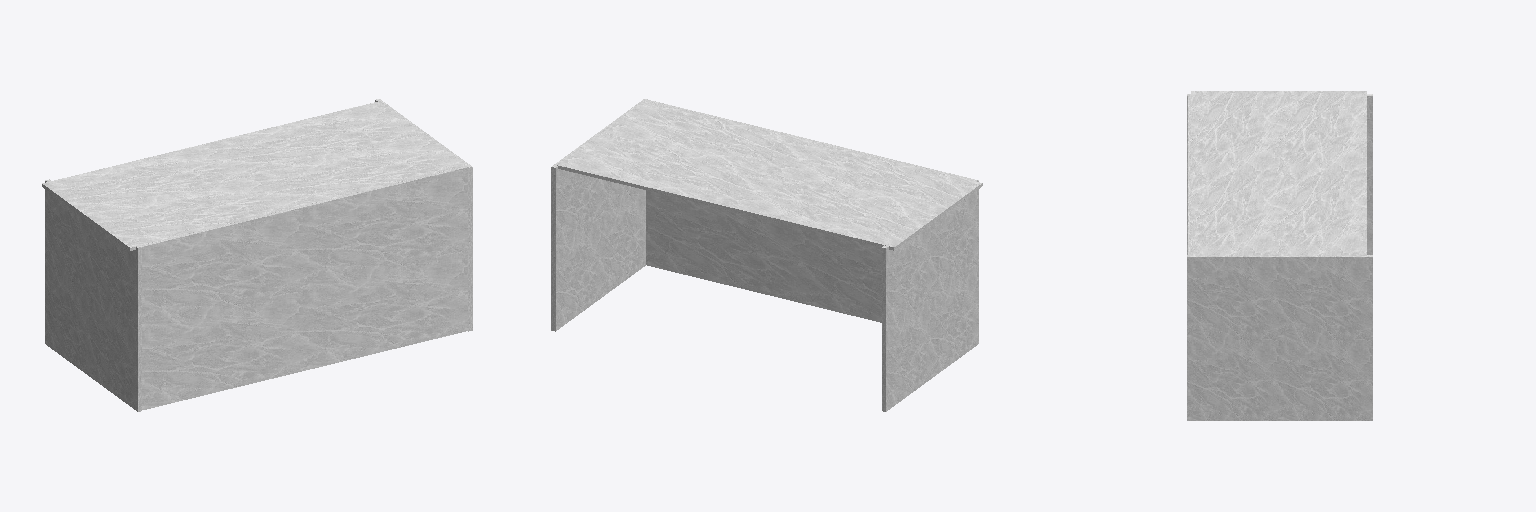
The picture shows the model from 3 angles: view 1: azimuth 30°, elevation 25°; view 2: azimuth 150°, elevation 25°; view 3: azimuth 270°, elevation 25°; orthographic projection.
Visible parts, largest first — view 1: pCube26, pCube28, pCube25, pCube27; view 2: pCube28, pCube26, pCube25, pCube27; view 3: pCube27, pCube28, pCube25.
Part boxes in pixels (x1,y1,x2,y2): pCube26: (137,166,468,409); pCube28: (42,101,467,250); pCube25: (45,179,141,411); pCube27: (375,99,472,331); pCube28: (557,101,982,250); pCube26: (646,100,977,322); pCube25: (882,180,978,411); pCube27: (551,99,647,331); pCube27: (1187,255,1372,420); pCube28: (1191,91,1366,255); pCube25: (1187,94,1372,254).
Size of the model in its own units: 10.47 by 4.82 by 4.96.
4 materials, 1 textured.